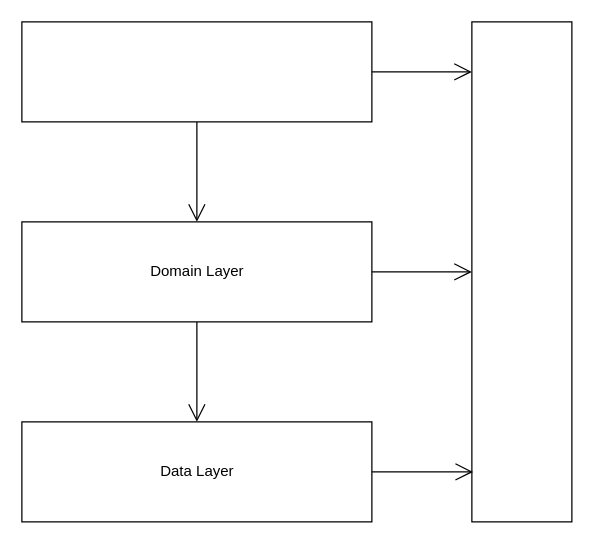
The diagram is 594 pixels wide and 544 high, and some of its shapes have lost their labels. Each missing label, with the centre of its shape:
"Infrastructure" belongs at [521,271].
"Presentation Layer" belongs at [196,71].
